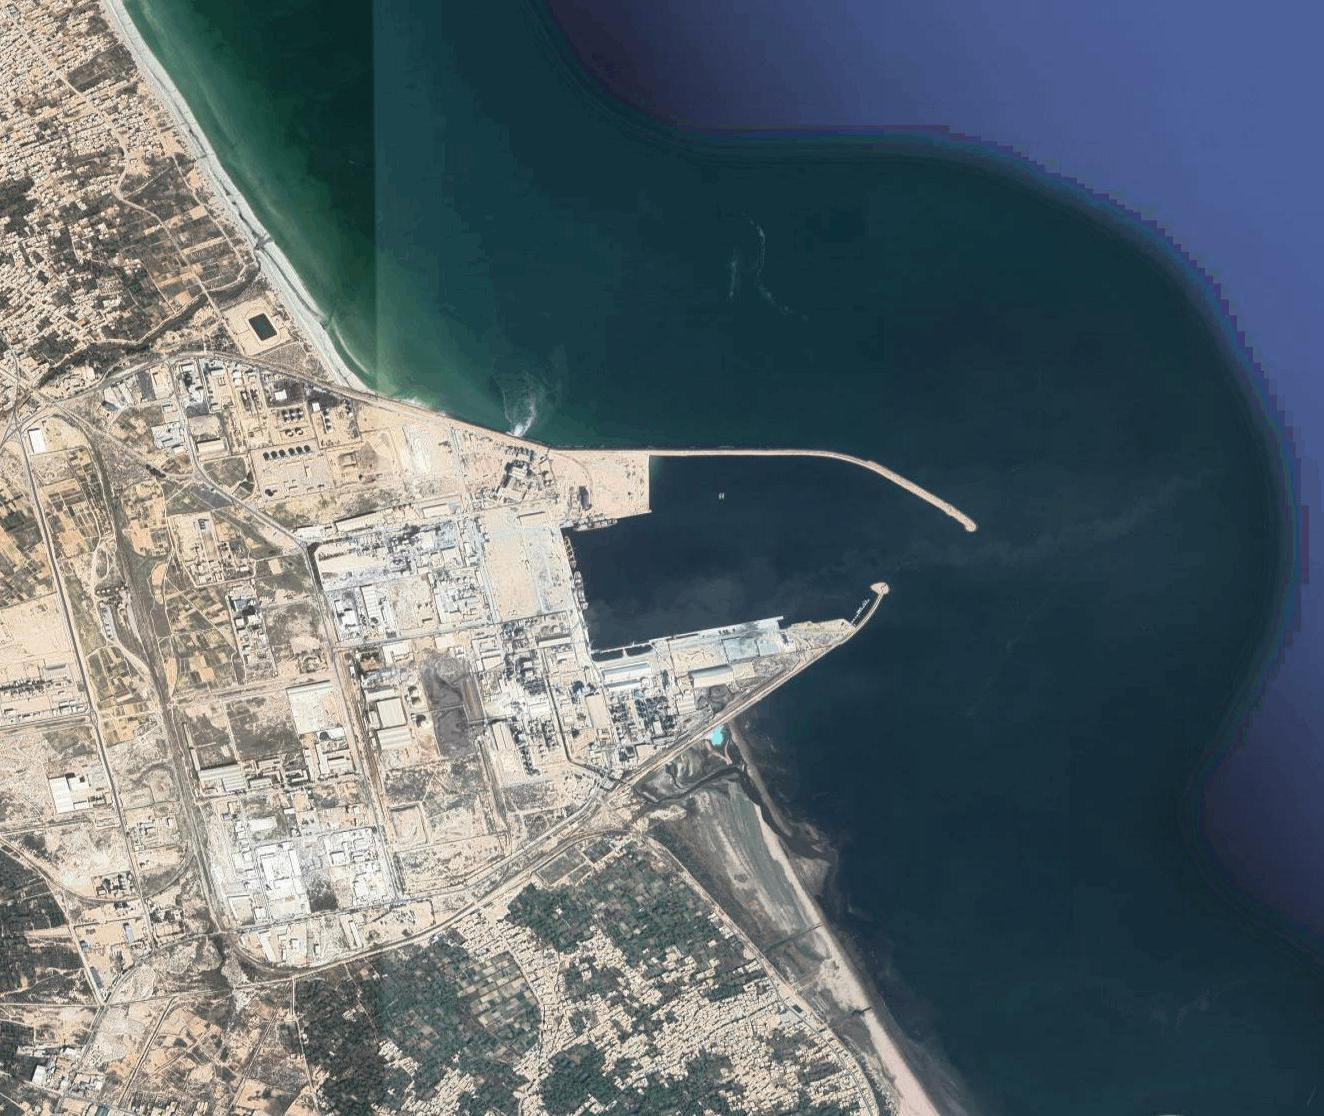harbor: (541, 391, 999, 777)
